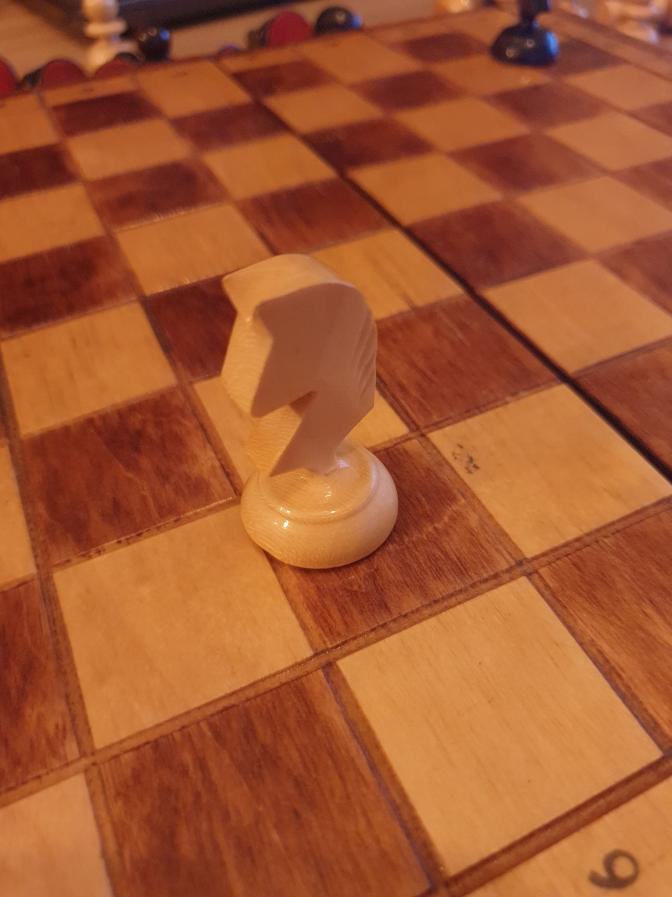wknight: (216, 254, 401, 573)
